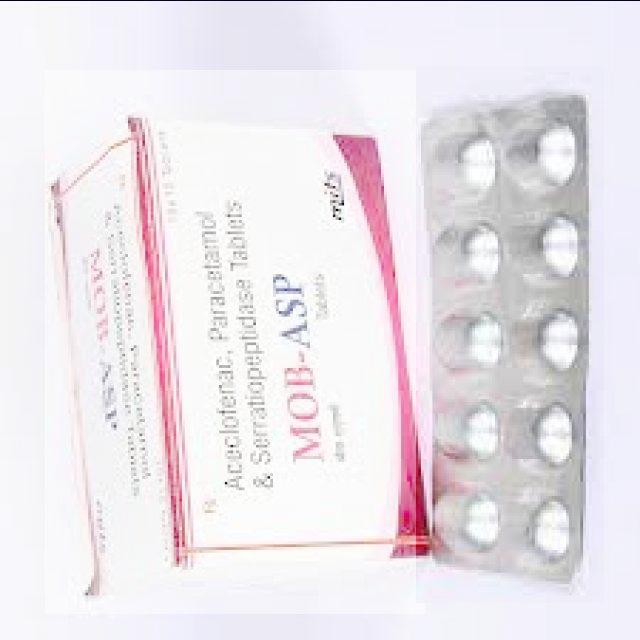authentic: (45, 69, 426, 613), (416, 66, 604, 602)
